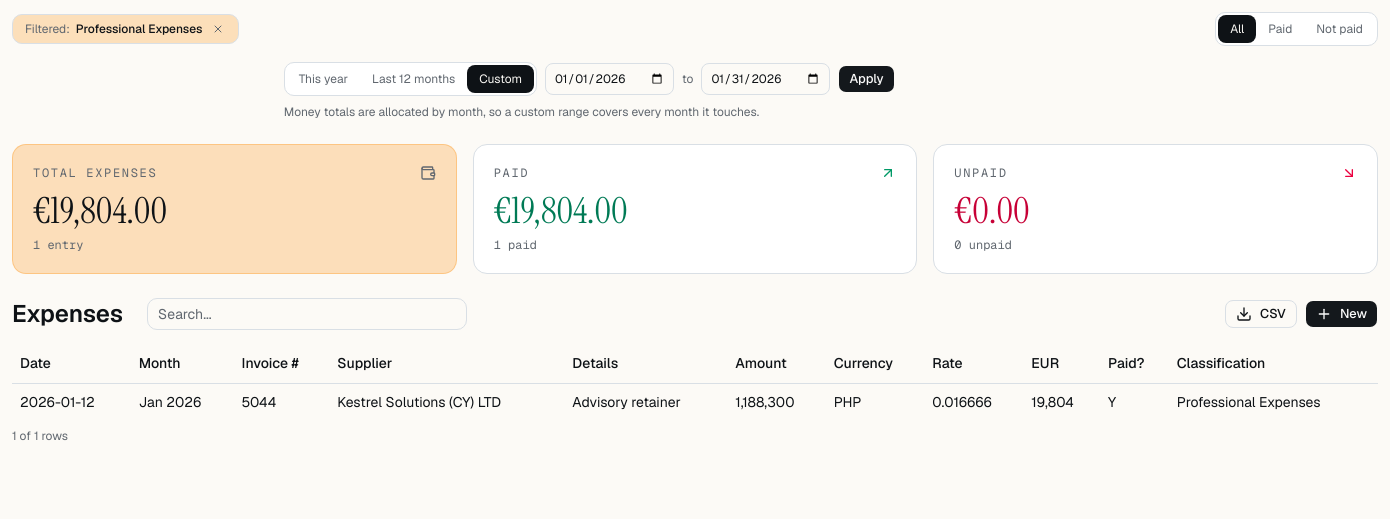
Test: Expenses drill-down by classification › names the active filter and restores every row when cleared
The image size is (1390, 519).
Click the button named "Clear Professional Expenses filter".
click(218, 29)  # box x1=210 y1=21 x2=226 y2=37
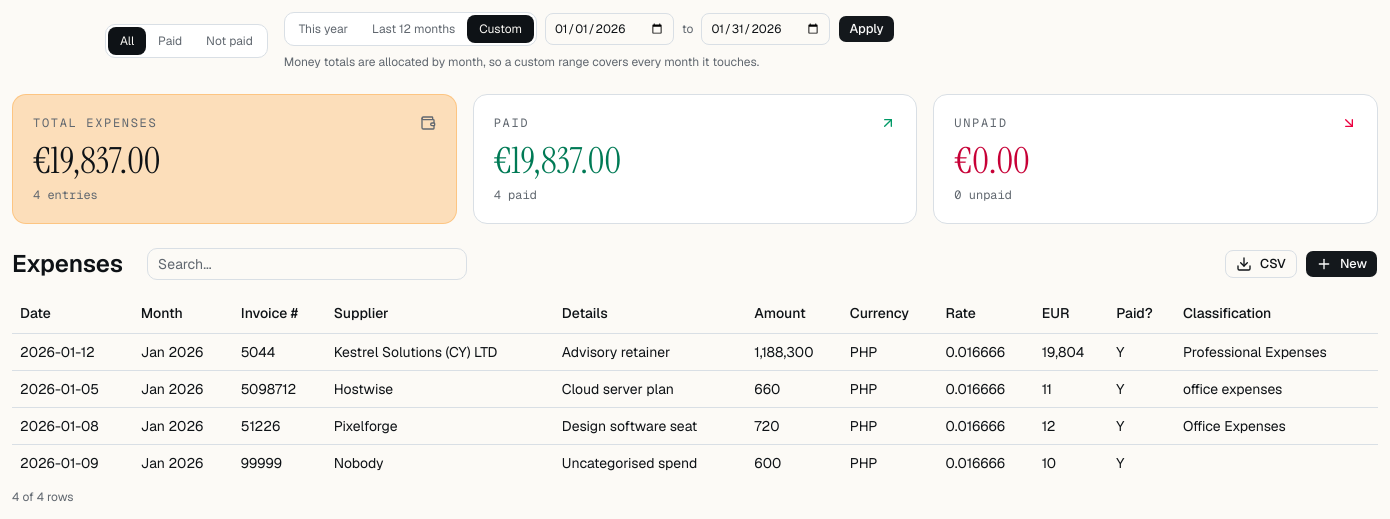
Expected: the text "5044" is shown, x1=233 y1=333 x2=326 y2=370
Expected: the text "99999" is shown, x1=233 y1=444 x2=326 y2=480
